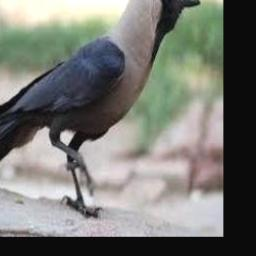Crow: (0, 0, 201, 219)
